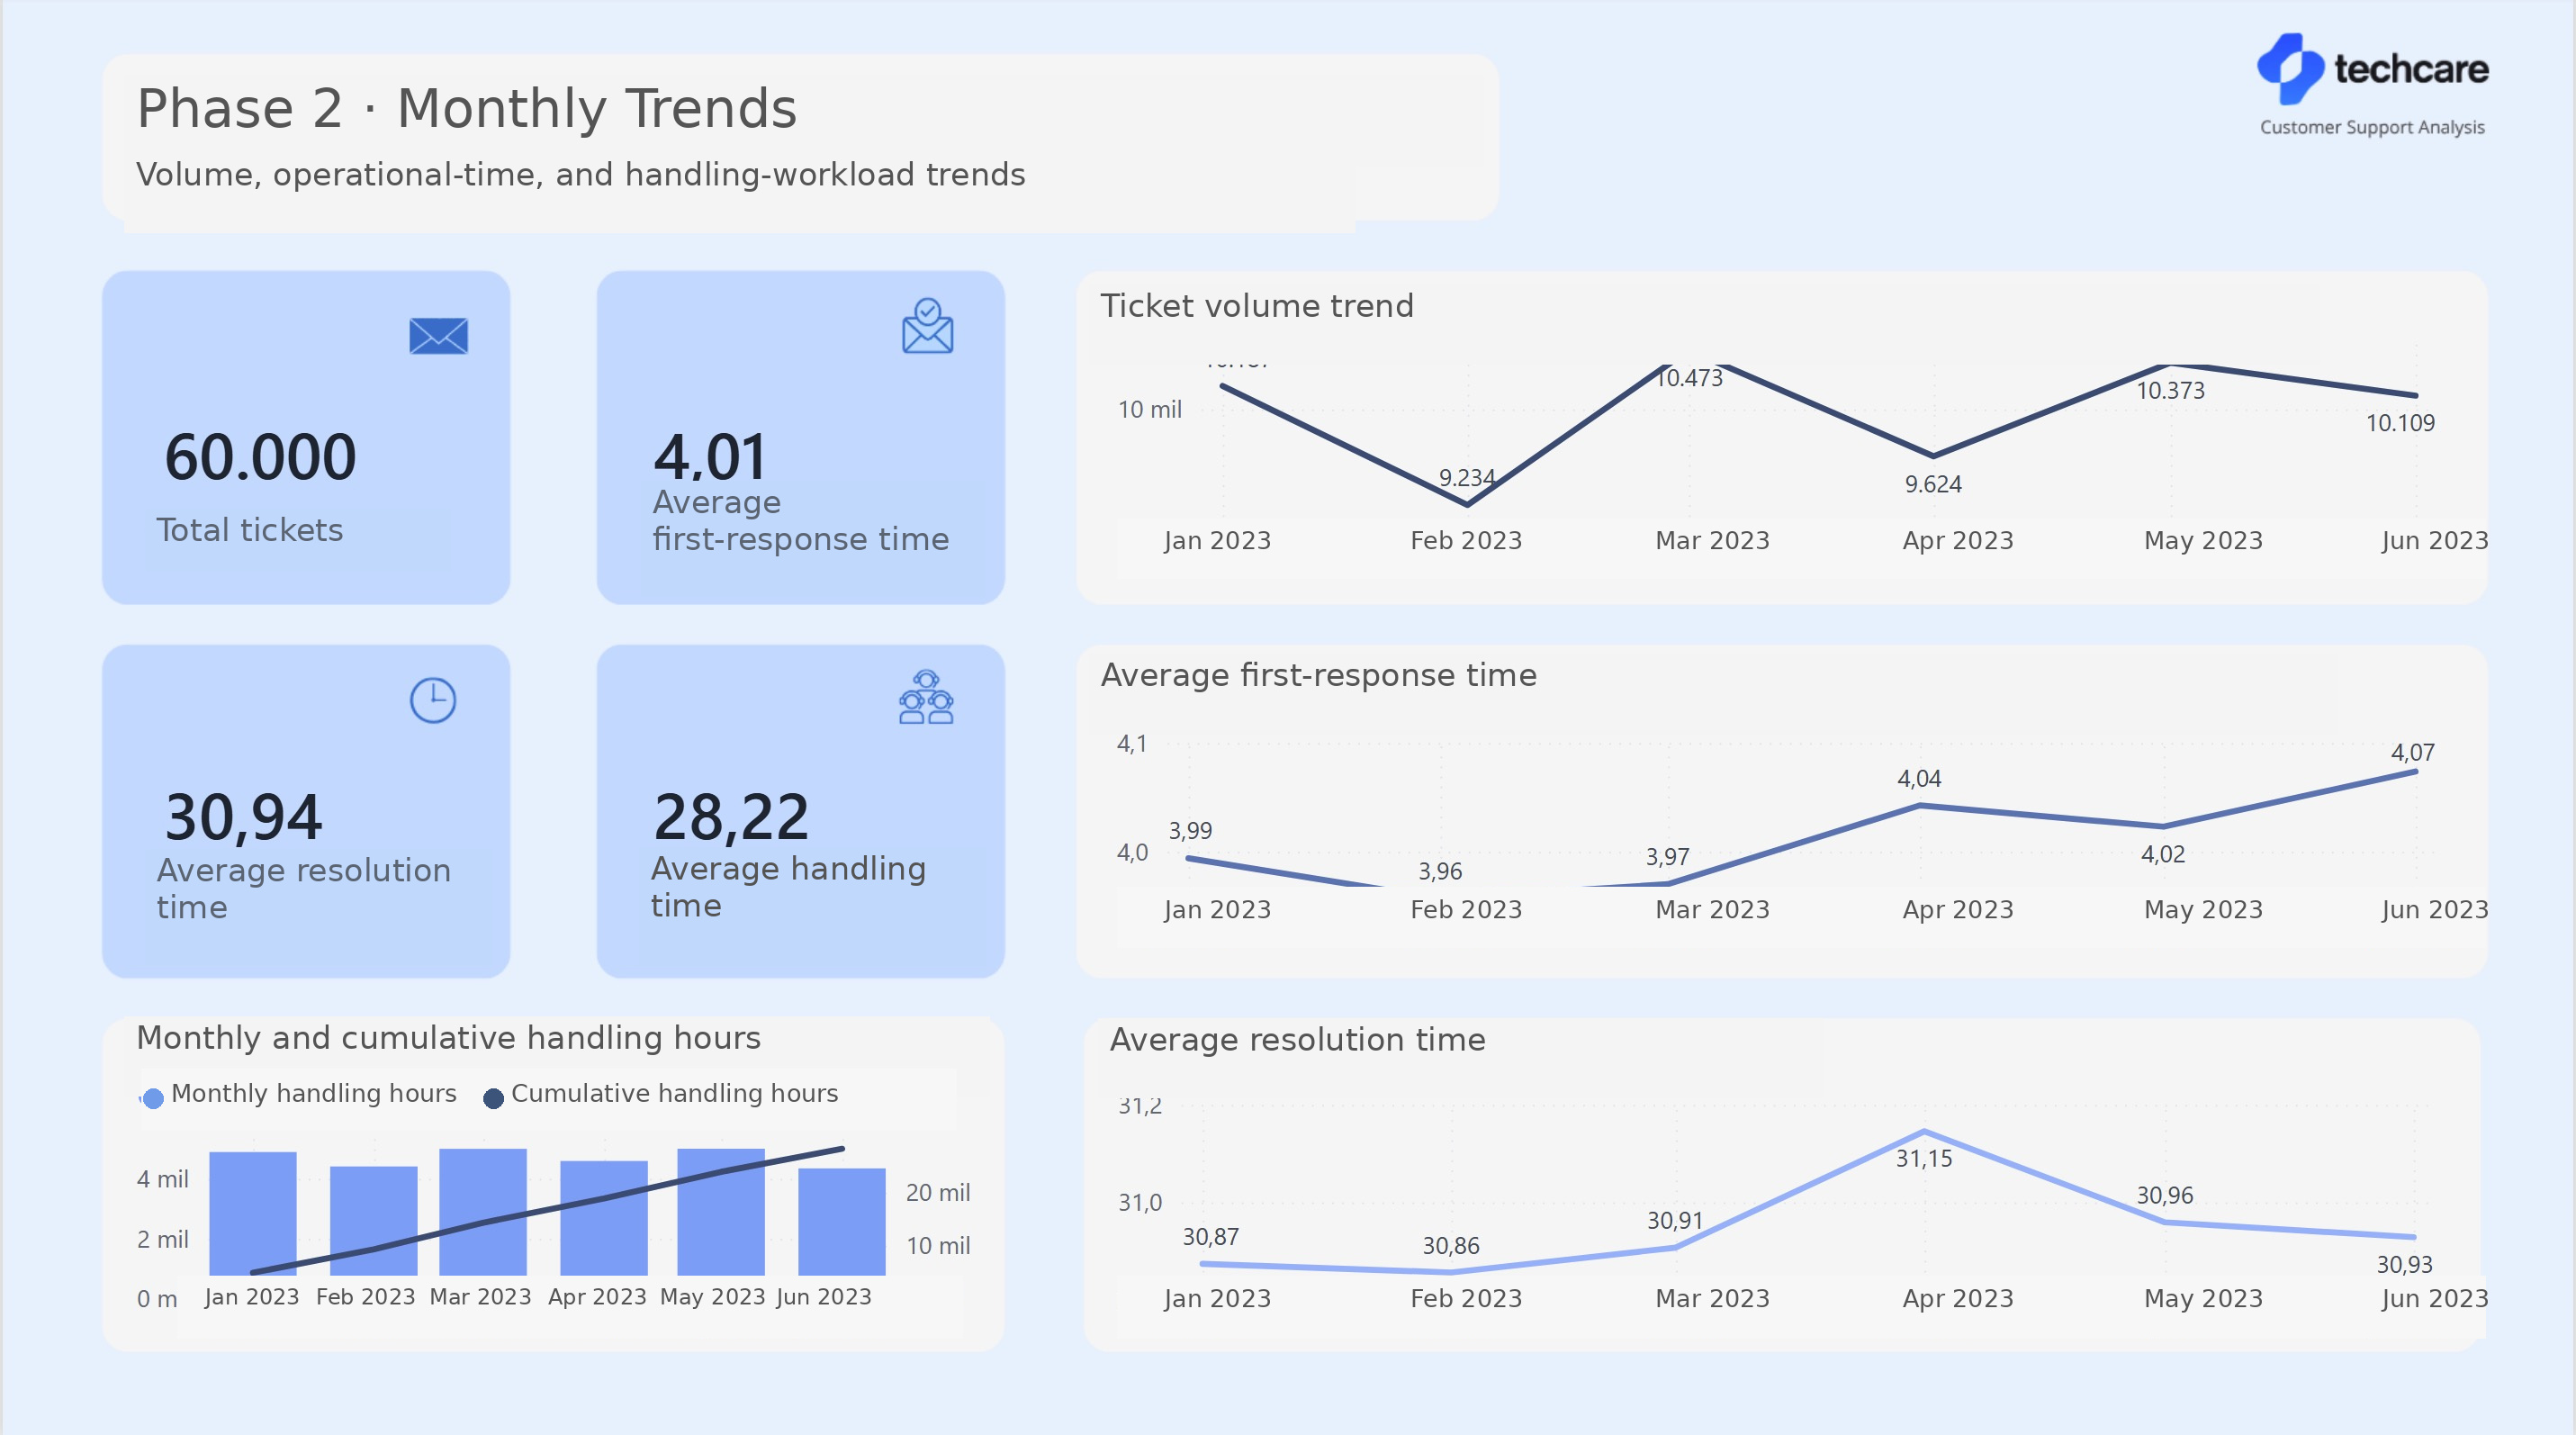

Layout of this report page (visuals, bound fields, positions):
{"tool":"powerbi","page":{"name":"Phase 2 · Monthly Trends","canvas":[1280,720],"ordinal":5},"visuals":[{"type":"cardVisual","fields":{"Data":["medidas_phase2.Avg First Response Hours Fase 2"]},"box":[295.2,168.2,192,118],"z":0},{"type":"cardVisual","fields":{"Data":["medidas_phase2.Avg Resolution Hours Fase 2"]},"box":[51.4,347.6,192,118],"z":1000},{"type":"cardVisual","fields":{"Data":["medidas_phase2.Avg Agent Handling Minutes Fase 2"]},"box":[295.2,347.6,192,118],"z":2000},{"type":"lineChart","title":"Evolución del volumen","fields":{"Category":["dim_fecha.inicio_mes"],"Y":["medidas_phase2.Total Tickets Fase 2"]},"box":[549.4,162.6,680.2,137.3],"z":3000},{"type":"lineChart","title":"Promedio horas primera respuesta","fields":{"Category":["dim_fecha.inicio_mes"],"Y":["medidas_phase2.Avg First Response Hours Fase 2"]},"box":[549.4,359.7,680.2,125.2],"z":4000},{"type":"lineChart","title":"Promedio horas resolución","fields":{"Category":["dim_fecha.inicio_mes"],"Y":["medidas_phase2.Avg Resolution Hours Fase 2"]},"box":[549.4,540,679.2,141.1],"z":5000},{"type":"cardVisual","fields":{"Data":["medidas_phase2.Total Tickets Fase 2"]},"box":[51.4,168.2,192,118],"z":6000},{"type":"textbox","box":[318.6,241.1,170.9,57.8],"z":7000},{"type":"textbox","box":[71.9,426,172.1,57.8],"z":8000},{"type":"textbox","box":[317.7,425.1,172.1,59],"z":9000},{"type":"textbox","box":[71.9,255.1,151.8,31.3],"z":10000},{"type":"textbox","box":[61.7,37.4,675.2,45.7],"z":11000},{"type":"textbox","box":[61.7,76.6,611.4,39.8],"z":12000},{"type":"lineClusteredColumnComboChart","title":"Horas de gestión mensuales y acumuladas","fields":{"Y":["medidas_phase2.Handling Hours Fase 2"],"Category":["dim_fecha.inicio_mes"],"Y2":["medidas_phase2.Handling Hours YTD Fase 2"]},"box":[61.7,529.8,426,150.4],"z":13000},{"type":"textbox","box":[541,142.9,611.4,39.8],"z":14000},{"type":"textbox","box":[541,327.9,620.4,40.2],"z":15000},{"type":"textbox","box":[545.6,511.1,611.4,39.8],"z":16000},{"type":"textbox","box":[61.7,510.1,611.4,39.8],"z":17000}]}

Visuals, with their boxes in screenshot pixels (x1, y1, x2, y2), scaled from the page's 1280x720 canvas onto the 2576x1435 screenshot:
cardVisual - medidas_phase2.Avg First Response Hours Fase 2: 594 335 980 571
cardVisual - medidas_phase2.Avg Resolution Hours Fase 2: 104 693 490 928
cardVisual - medidas_phase2.Avg Agent Handling Minutes Fase 2: 594 693 980 928
"Evolución del volumen" lineChart: 1105 324 2474 598
"Promedio horas primera respuesta" lineChart: 1105 717 2474 967
"Promedio horas resolución" lineChart: 1105 1077 2472 1358
cardVisual - medidas_phase2.Total Tickets Fase 2: 104 335 490 571
textbox: 641 481 985 596
textbox: 145 849 491 964
textbox: 639 847 986 965
textbox: 145 509 450 571
textbox: 124 75 1483 166
textbox: 124 153 1355 232
"Horas de gestión mensuales y acumuladas" lineClusteredColumnComboChart: 124 1056 981 1356
textbox: 1089 284 2319 364
textbox: 1089 654 2337 734
textbox: 1098 1019 2328 1098
textbox: 124 1016 1355 1096
